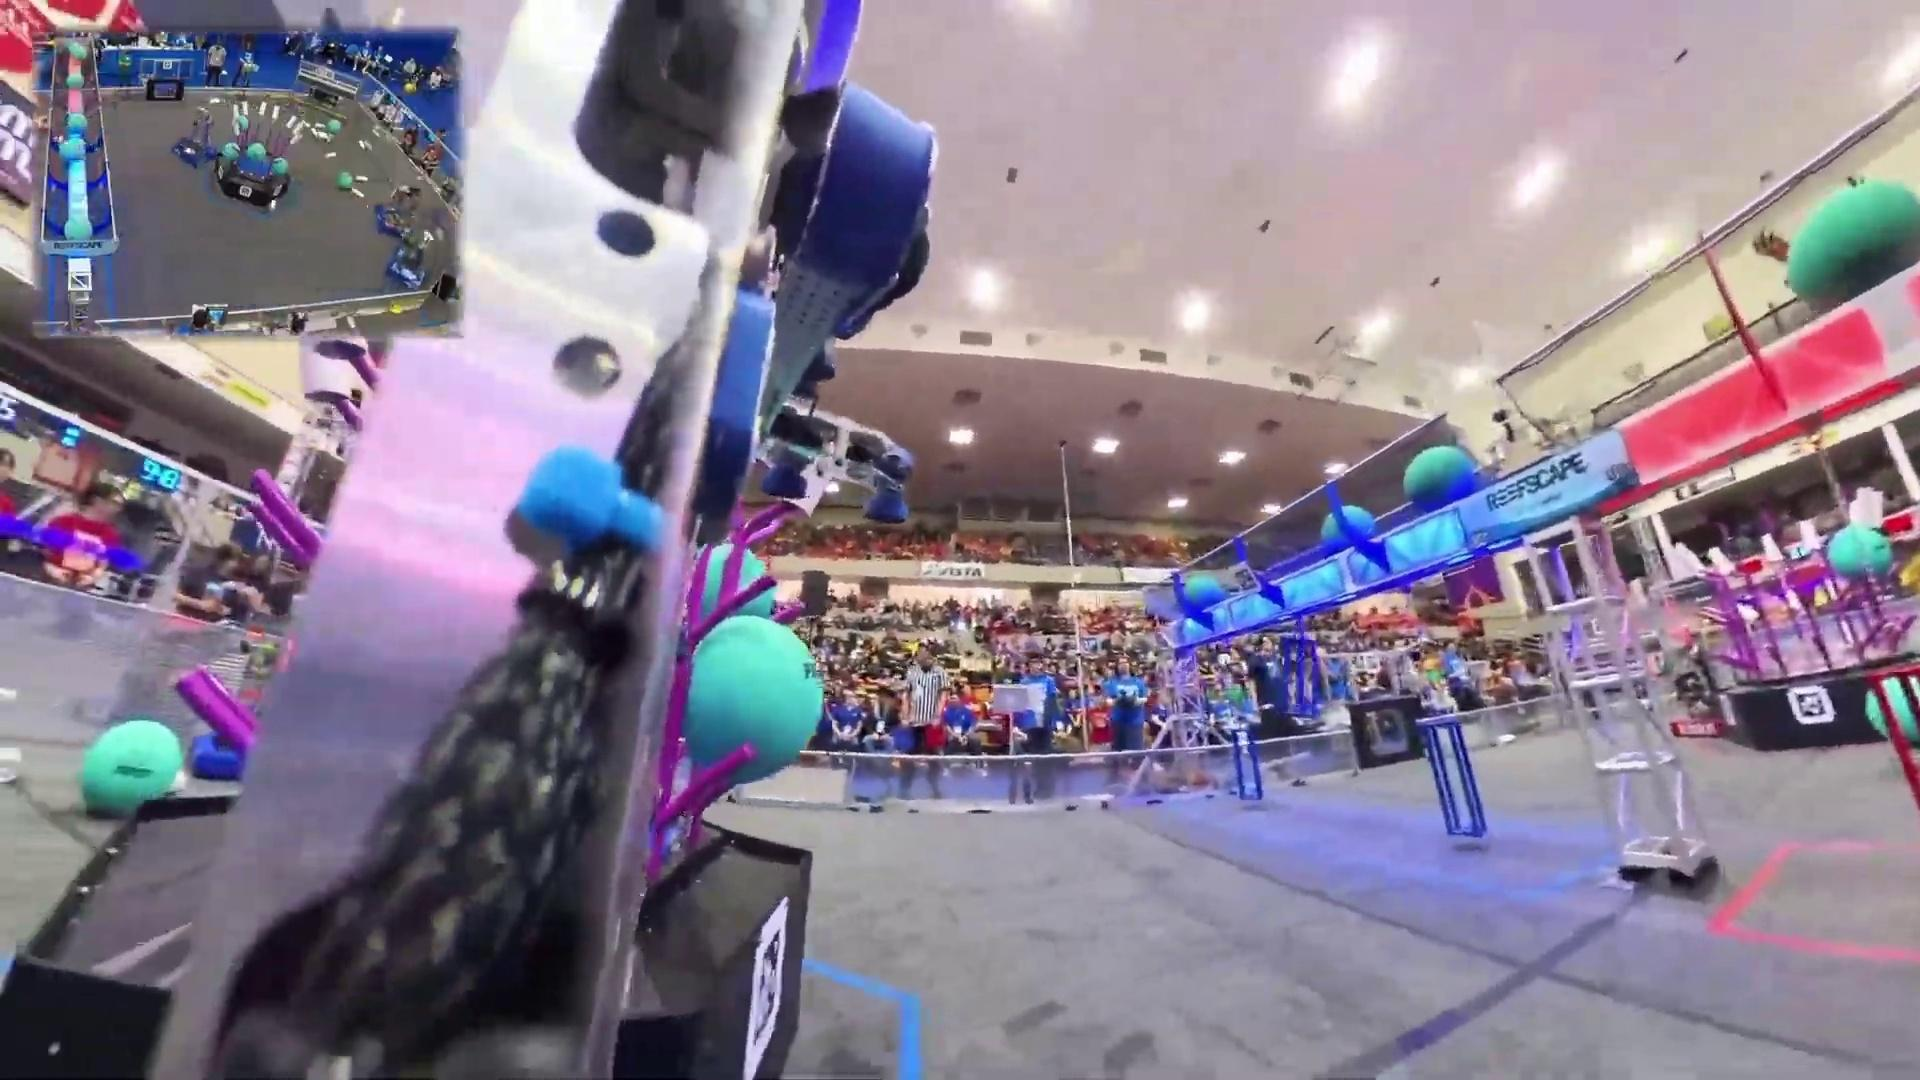robot: (170, 100, 219, 169), (375, 185, 421, 237)
